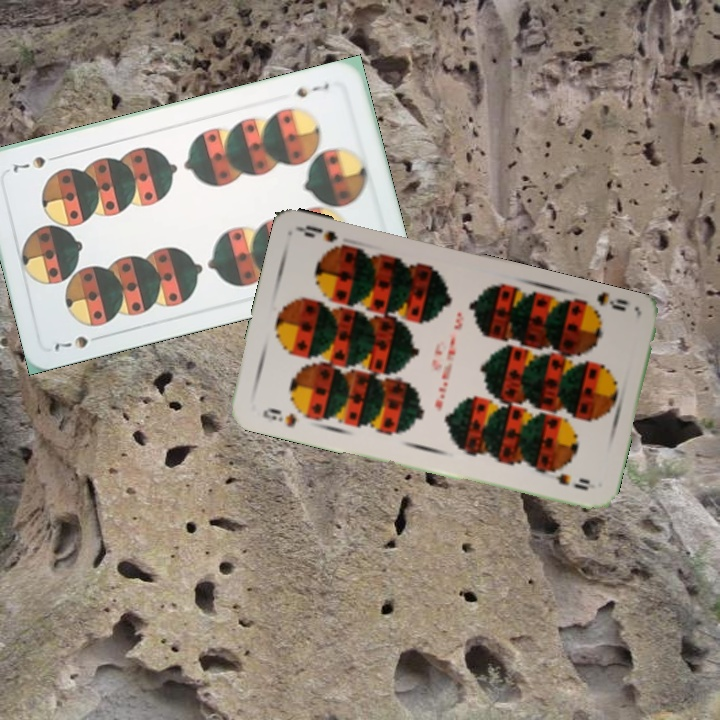S7: (50, 331, 106, 354), (292, 78, 332, 101)
S9: (258, 404, 299, 430), (593, 290, 631, 314)
